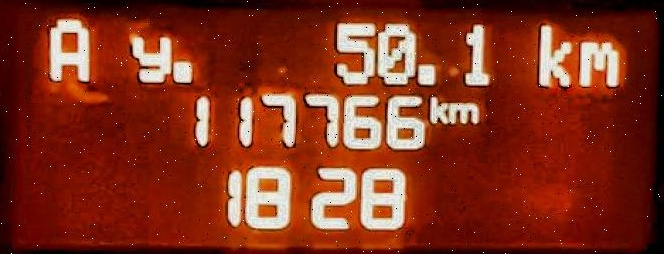-: (415, 59, 439, 88), (171, 58, 193, 85)
0: (375, 19, 417, 85)
1: (459, 15, 493, 89), (233, 90, 253, 150), (225, 164, 242, 230), (192, 93, 211, 149)
2: (307, 163, 355, 230)
5: (332, 19, 375, 84)
6: (341, 93, 383, 149), (385, 93, 424, 152)
7: (303, 89, 340, 148), (259, 92, 296, 148)
8: (245, 162, 291, 232), (359, 165, 406, 229)
X: (46, 15, 90, 82), (535, 21, 572, 86), (576, 37, 620, 88), (128, 33, 171, 83), (447, 99, 479, 125), (427, 94, 447, 124)
